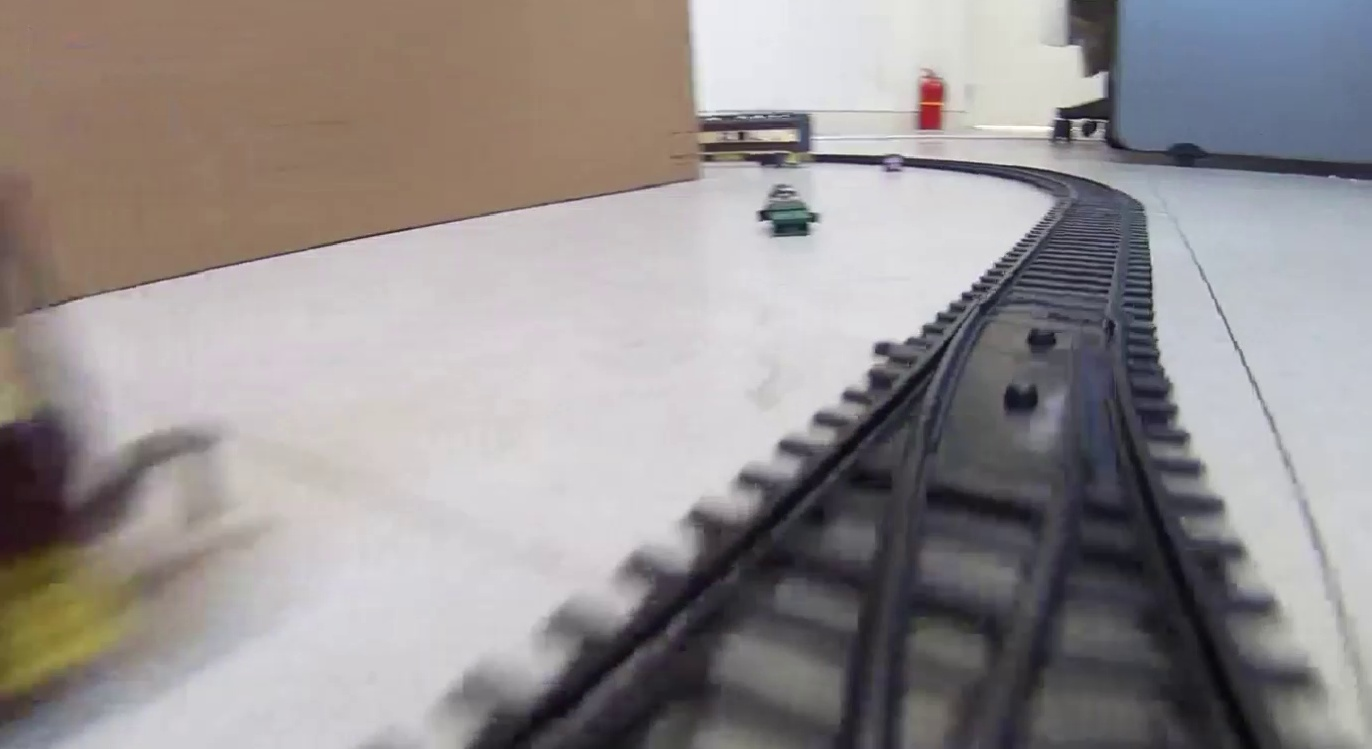people: (756, 182, 819, 236)
